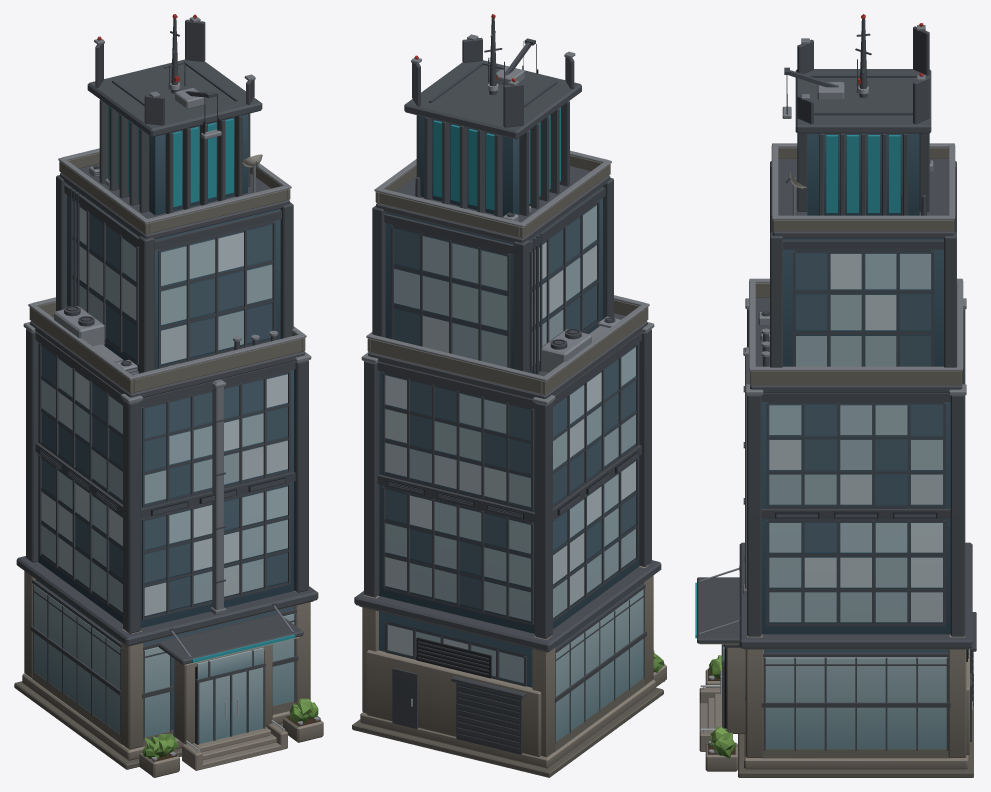
File: glass-skyscraper-01.glb
3 renders of one model, left to right at view 1: azimuth 30°, elevation 25°; view 2: azimuth 150°, elevation 25°; view 3: azimuth 270°, elevation 25°, orthographic. The views are drawn at different scales.
Visible parts, largest first — view 1: glass_skyscraper_01; view 2: glass_skyscraper_01; view 3: glass_skyscraper_01.
Part boxes in pixels (x1,y1,x2,y2): glass_skyscraper_01: (14,14,323,777); glass_skyscraper_01: (352,14,666,777); glass_skyscraper_01: (695,14,976,777).
Bounding box in the file's own units: 8 × 26.91 × 9.53.
